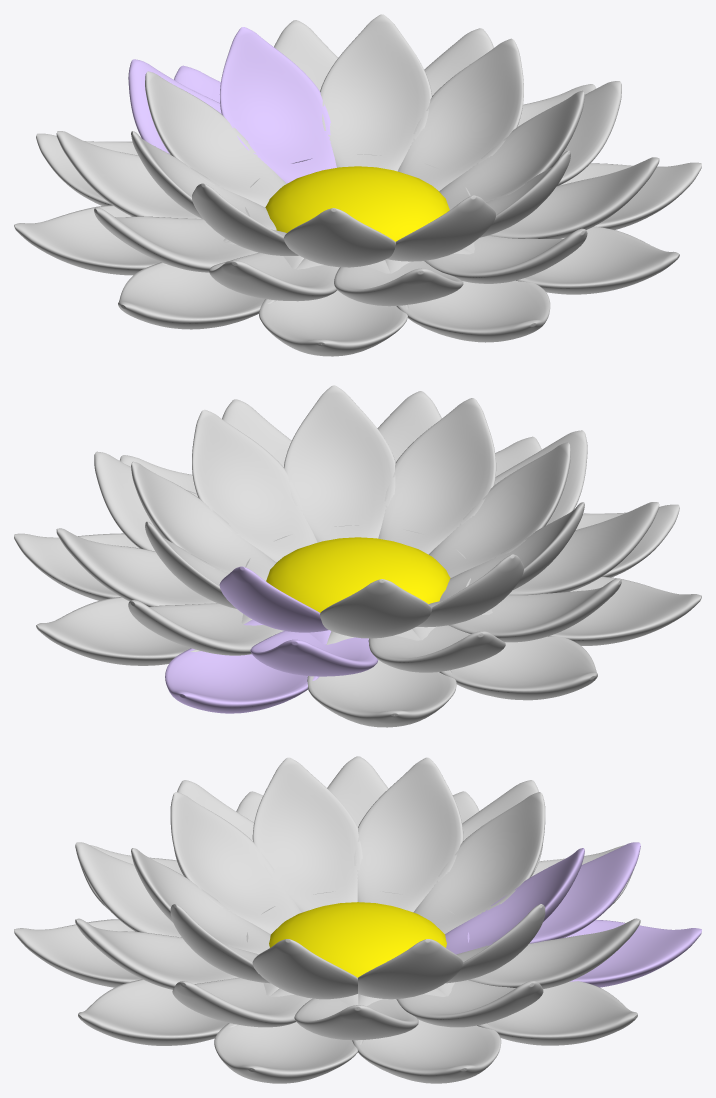
Rendered from separate lotus.fbx.
3 views of the same model, one above another, from view 1: azimuth 30°, elevation 25°; view 2: azimuth 150°, elevation 25°; view 3: azimuth 270°, elevation 25° (orthographic). The views are drawn at different scales.
Parts seen in each view (by area): view 1: Лофт_NURBS_1, Лофт_NURBS_0, Лофт_NURBS_2, Объект_Сфера, Лофт_NURBS_9, Лофт_NURBS_6_3, Лофт_NURBS_5_3, Лофт_NURBS_7_3, Лофт_NURBS_3, Лофт_NURBS_4_3, Лофт_NURBS_4_2, Лофт_NURBS_8_3 (+18 smaller); view 2: Лофт_NURBS_4, Лофт_NURBS_5, Лофт_NURBS_3, Объект_Сфера, Лофт_NURBS_6, Лофт_NURBS_9_3, Лофт_NURBS_0_3, Лофт_NURBS_8_3, Лофт_NURBS_2, Лофт_NURBS_1_3, Лофт_NURBS_7_2, Лофт_NURBS_2_2 (+18 smaller); view 3: Лофт_NURBS_7, Лофт_NURBS_8, Лофт_NURBS_6, Лофт_NURBS_9, Объект_Сфера, Лофт_NURBS_2_3, Лофт_NURBS_3_3, Лофт_NURBS_1_3, Лофт_NURBS_4_3, Лофт_NURBS_1_2, Лофт_NURBS_5_2, Лофт_NURBS_5 (+18 smaller).
Boxes of the visible parts, box(x1,y1,x2,y2) form: Лофт_NURBS_1: box(320, 14, 432, 171); Лофт_NURBS_0: box(219, 27, 336, 183); Лофт_NURBS_2: box(397, 38, 523, 191); Объект_Сфера: box(265, 166, 449, 241); Лофт_NURBS_9: box(145, 71, 286, 207); Лофт_NURBS_6_3: box(259, 258, 408, 356); Лофт_NURBS_5_3: box(385, 248, 550, 342); Лофт_NURBS_7_3: box(118, 240, 303, 329); Лофт_NURBS_3: box(439, 90, 584, 209); Лофт_NURBS_4_3: box(464, 226, 679, 294); Лофт_NURBS_4_2: box(489, 157, 659, 238); Лофт_NURBS_8_3: box(14, 205, 250, 275); Лофт_NURBS_4: box(284, 385, 395, 542); Лофт_NURBS_5: box(378, 398, 496, 554); Лофт_NURBS_3: box(192, 409, 317, 562); Объект_Сфера: box(266, 537, 450, 612); Лофт_NURBS_6: box(428, 442, 570, 577); Лофт_NURBS_9_3: box(307, 629, 456, 727); Лофт_NURBS_0_3: box(165, 619, 331, 713); Лофт_NURBS_8_3: box(412, 611, 597, 700); Лофт_NURBS_2: box(131, 461, 276, 581); Лофт_NURBS_1_3: box(36, 597, 252, 665); Лофт_NURBS_7_2: box(508, 502, 659, 595); Лофт_NURBS_2_2: box(56, 528, 216, 606); Лофт_NURBS_7: box(252, 757, 362, 912); Лофт_NURBS_8: box(354, 757, 463, 912); Лофт_NURBS_6: box(170, 792, 301, 934); Лофт_NURBS_9: box(413, 792, 545, 933); Объект_Сфера: box(269, 902, 446, 977); Лофт_NURBS_2_3: box(352, 988, 501, 1083); Лофт_NURBS_3_3: box(214, 988, 363, 1083); Лофт_NURBS_1_3: box(437, 981, 637, 1045); Лофт_NURBS_4_3: box(78, 979, 279, 1045); Лофт_NURBS_1_2: box(468, 918, 640, 988); Лофт_NURBS_5_2: box(75, 918, 238, 989); Лофт_NURBS_5: box(131, 848, 270, 954).
Size of the model in its own units: 834 by 206 by 875.
